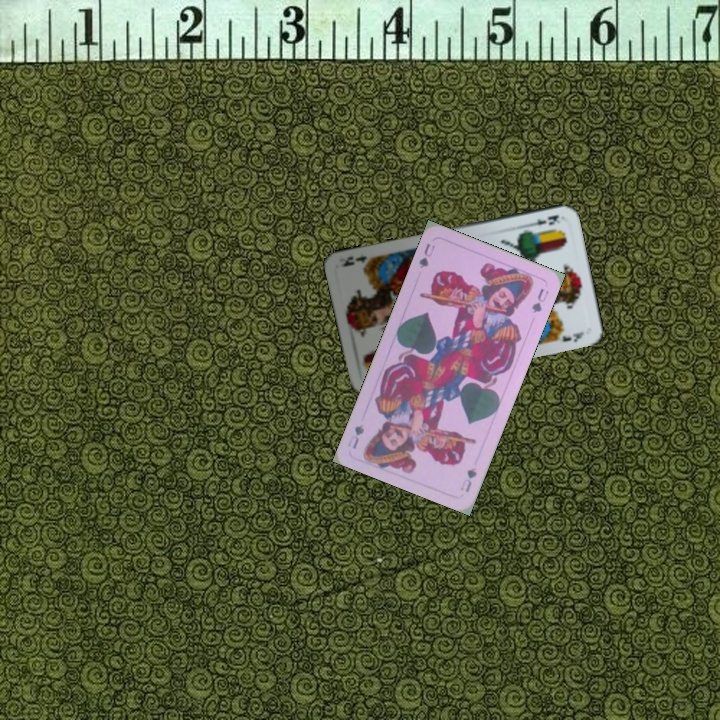EK: (523, 211, 563, 229)
GU: (415, 239, 438, 271), (456, 463, 479, 495)
